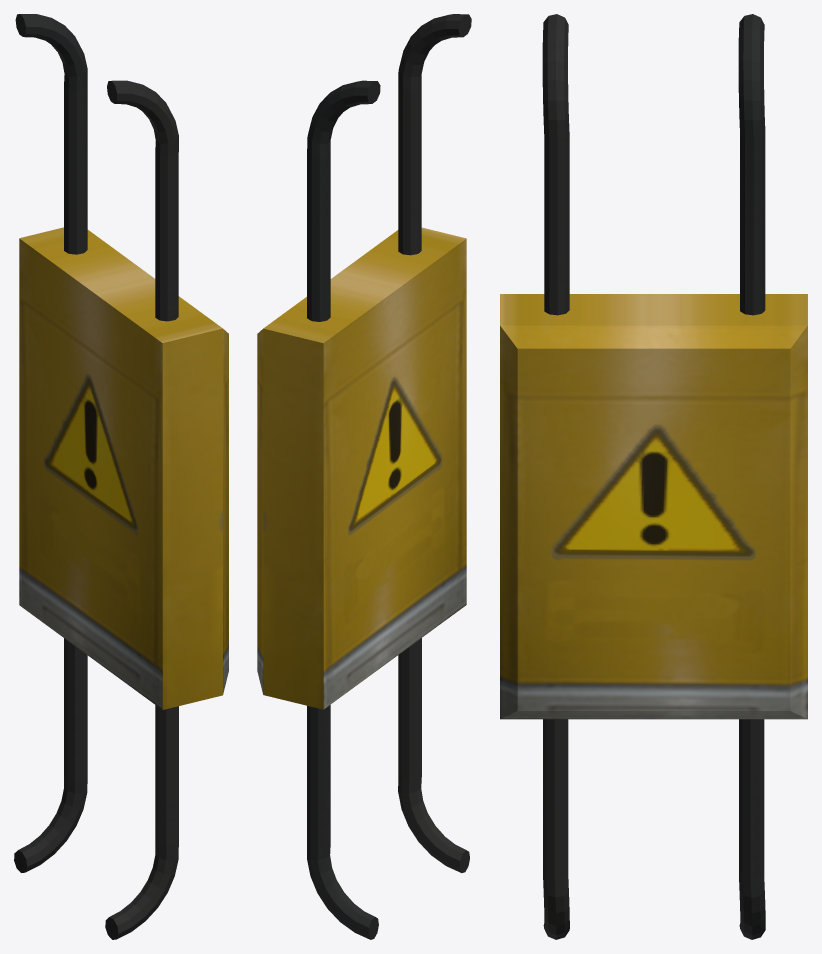
Rendered from FuseBox.fbx.
The picture shows the model from 3 angles, left to right: view 1: azimuth 30°, elevation 25°; view 2: azimuth 150°, elevation 25°; view 3: azimuth 270°, elevation 25°; orthographic projection. The views are drawn at different scales.
Parts seen in each view (by area): view 1: Fusebox; view 2: Fusebox; view 3: Fusebox.
Part boxes in pixels (x1,y1,x2,y2): Fusebox: (14, 14, 228, 939); Fusebox: (257, 14, 471, 939); Fusebox: (500, 14, 807, 939).
Size of the model in its own units: 0.8022 by 6.61 by 2.
1 material, 1 textured.
